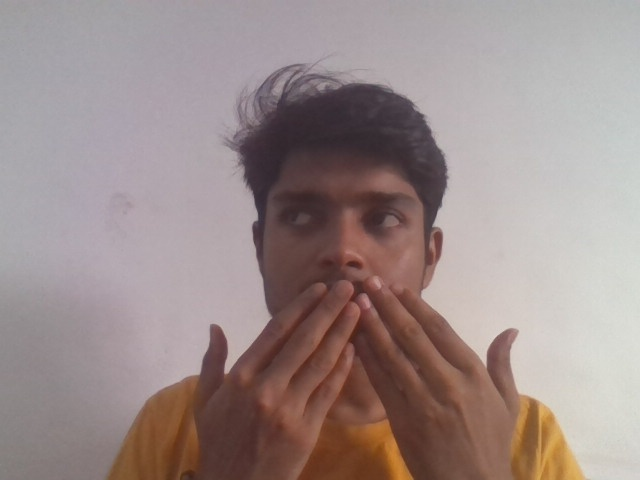Thanks: (187, 272, 540, 476)
